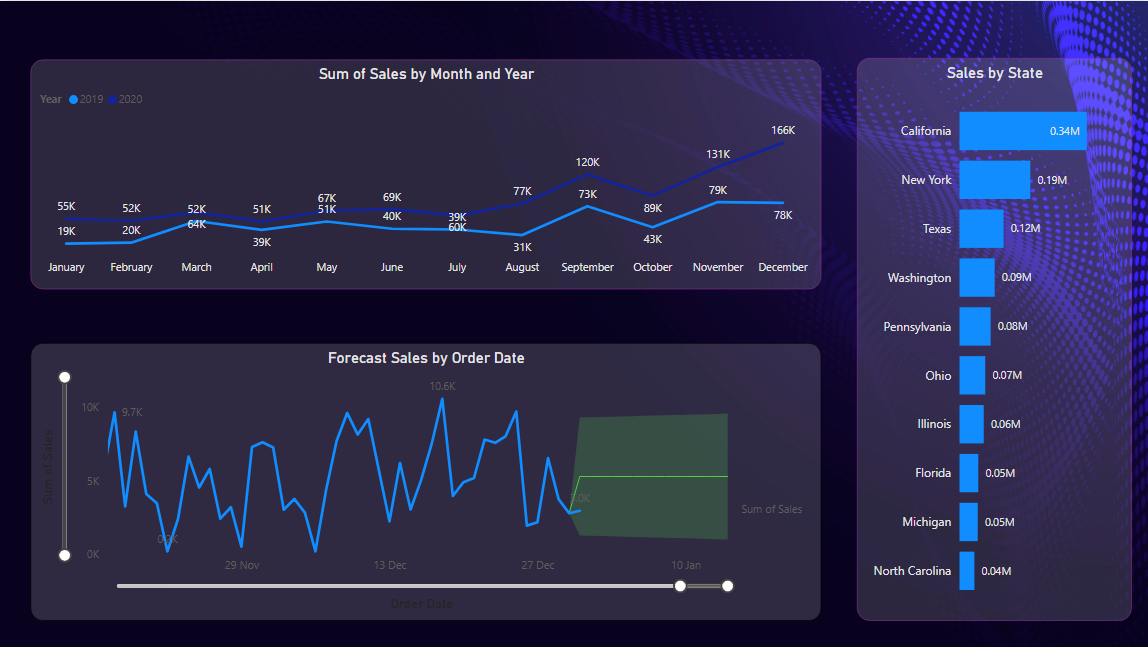

This screenshot's page, from the dashboard's own definition file:
{"tool":"powerbi","page":{"name":"Page 2","canvas":[1280,720],"ordinal":1},"visuals":[{"type":"lineChart","fields":{"Y":["Sum(SuperStore_Sales_Dataset.Sales)"],"Series":["SuperStore_Sales_Dataset.Order Date.Variation.Date Hierarchy.Year"],"Category":["SuperStore_Sales_Dataset.Order Date.Variation.Date Hierarchy.Month","SuperStore_Sales_Dataset.Order Date.Variation.Date Hierarchy.Day"]},"box":[35,65,878.3,255],"z":0},{"type":"lineChart","title":"Forecast  Sales by Order Date","fields":{"Y":["Sum(SuperStore_Sales_Dataset.Sales)"],"Category":["SuperStore_Sales_Dataset.Order Date"]},"box":[35,380,878.3,308.3],"z":1000},{"type":"clusteredBarChart","title":" Sales by State","fields":{"Category":["SuperStore_Sales_Dataset.State"],"Y":["Sum(SuperStore_Sales_Dataset.Sales)"]},"box":[953.3,63.3,305,625],"z":2000}]}

Visuals, with their boxes in screenshot pixels (x1, y1, x2, y2), scaled from the page's 1280x720 canvas onto the 1148x647 screenshot:
lineChart - Sum(SuperStore_Sales_Dataset.Sales) x SuperStore_Sales_Dataset.Order Date.Variation.Date Hierarchy.Year: BBox(31, 58, 819, 288)
"Forecast  Sales by Order Date" lineChart: BBox(31, 341, 819, 619)
" Sales by State" clusteredBarChart: BBox(855, 57, 1129, 619)
